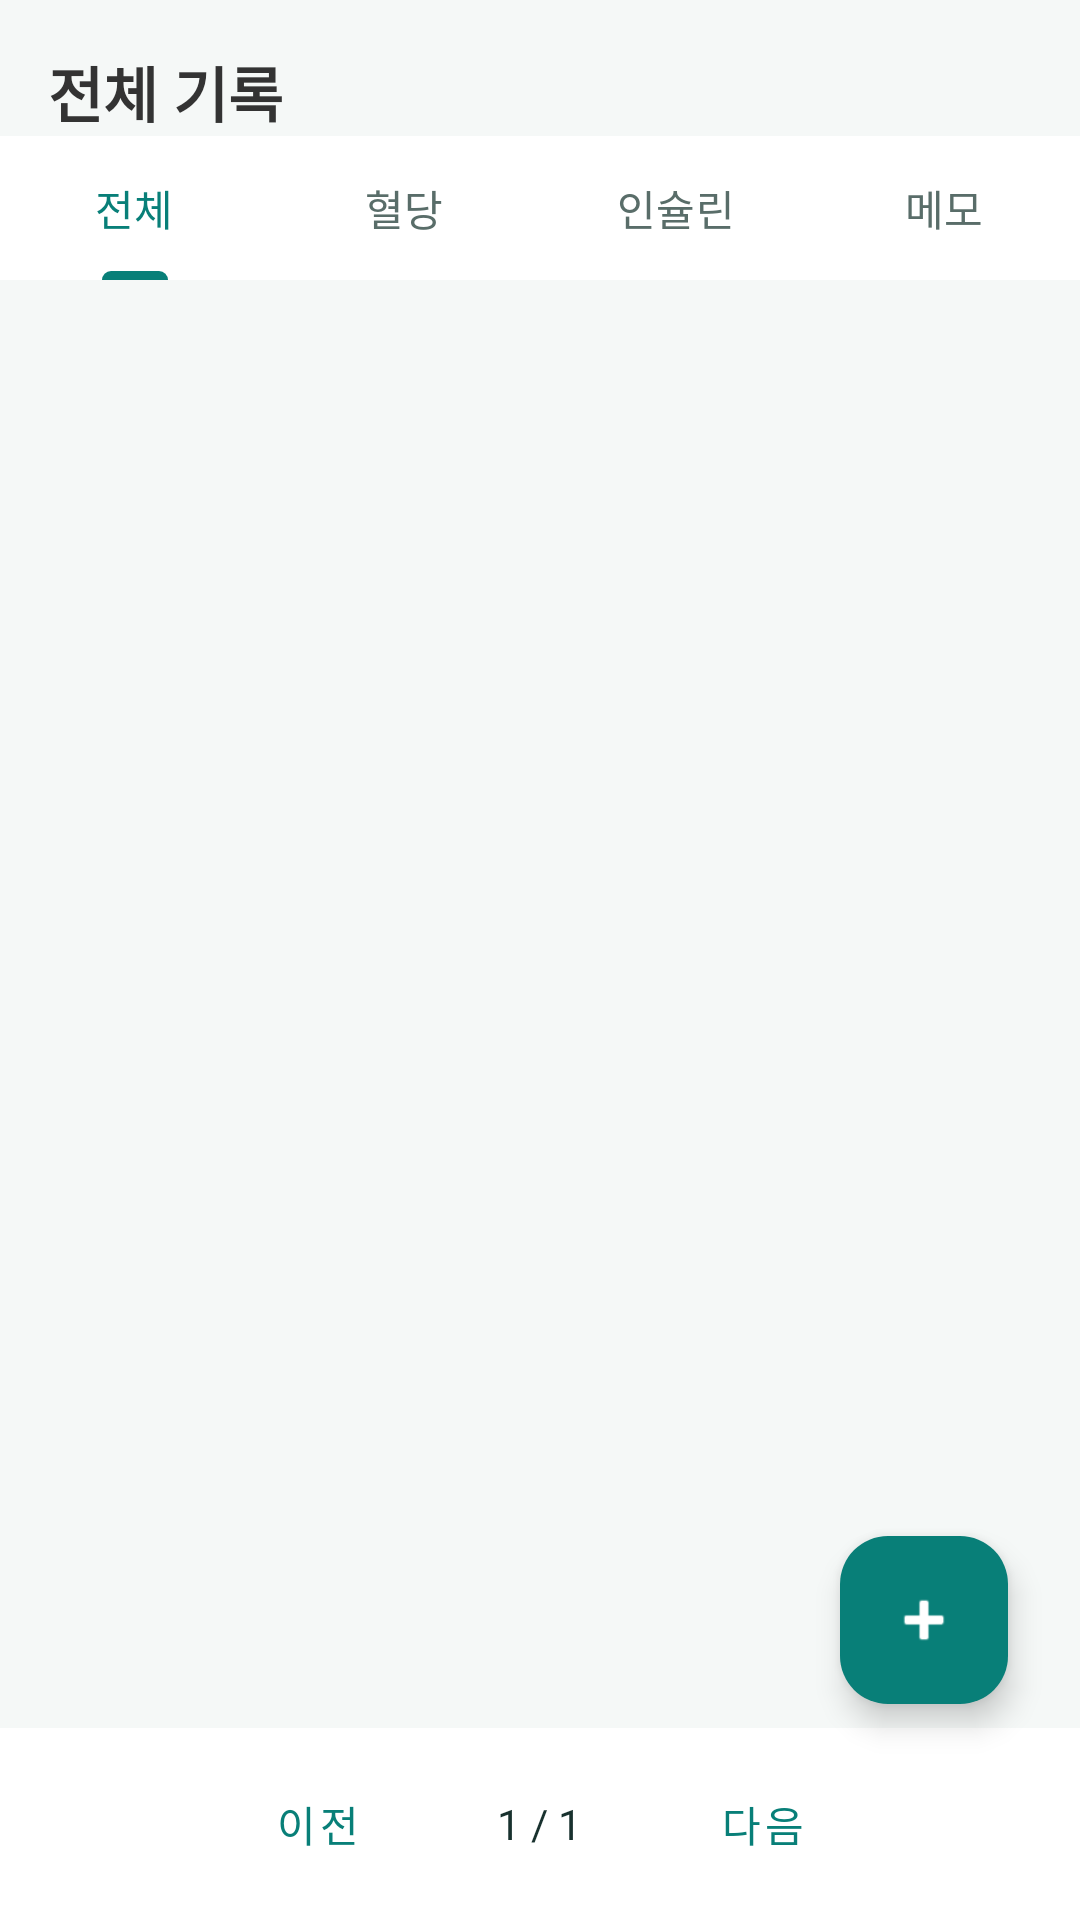

Locate icon controls on the screen. Image size 1080 x 1920, boxes as (x1, y1, x2, y2).
기록 추가: (840, 1536, 1008, 1704)
